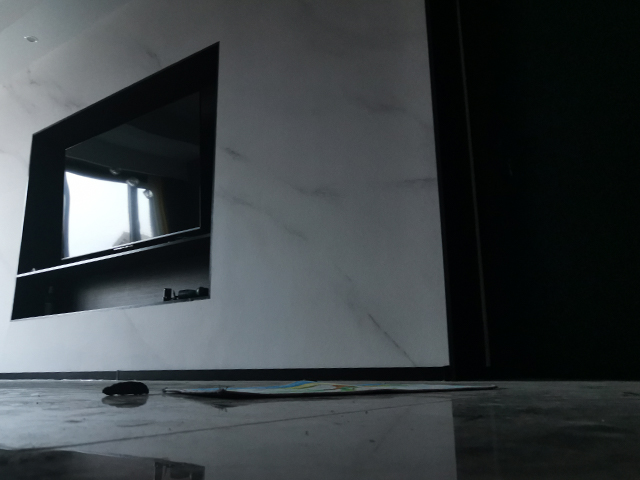carpet: (161, 378, 501, 399)
feces: (101, 379, 150, 396)
